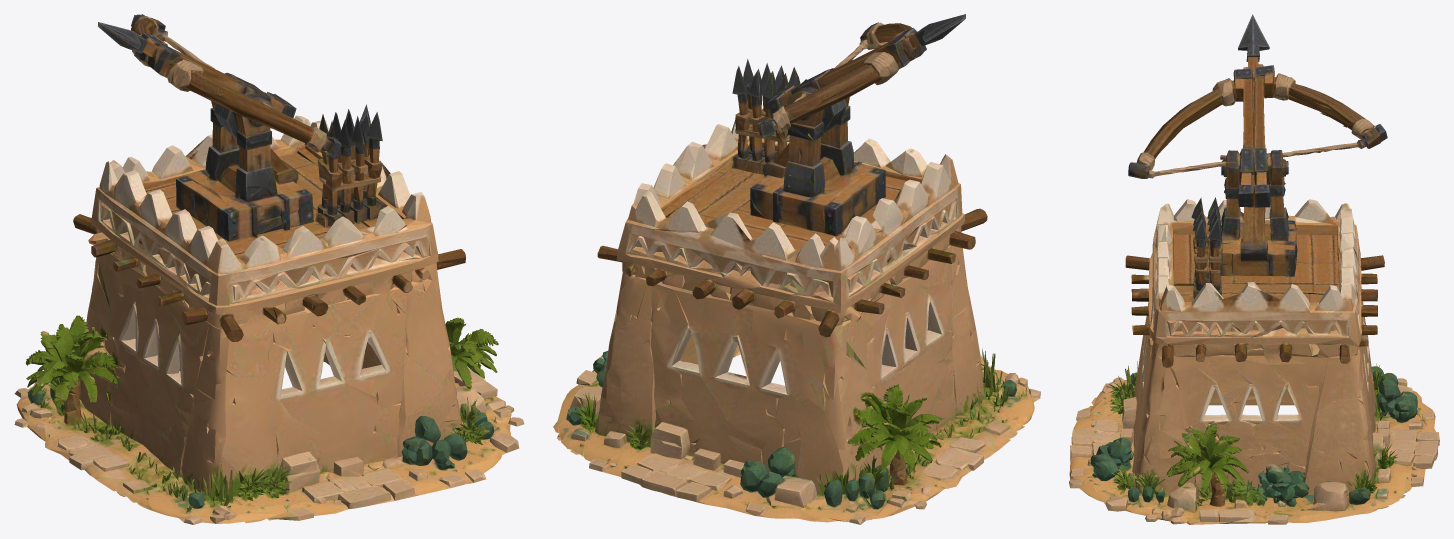
The model's file is airdef.glb.
3 views of the same model, side by side, from view 1: azimuth 30°, elevation 25°; view 2: azimuth 150°, elevation 25°; view 3: azimuth 270°, elevation 25° (orthographic). The views are drawn at different scales.
Visible parts, largest first — view 1: airdef; view 2: airdef; view 3: airdef.
Boxes of the visible parts, x1,y1,x2,y2 form: airdef: [14, 14, 524, 524]; airdef: [553, 14, 1040, 524]; airdef: [1069, 14, 1439, 524].
Size of the model in its own units: 1.76 by 1.9 by 1.76.
Materials: 1 (1 with a texture image).
